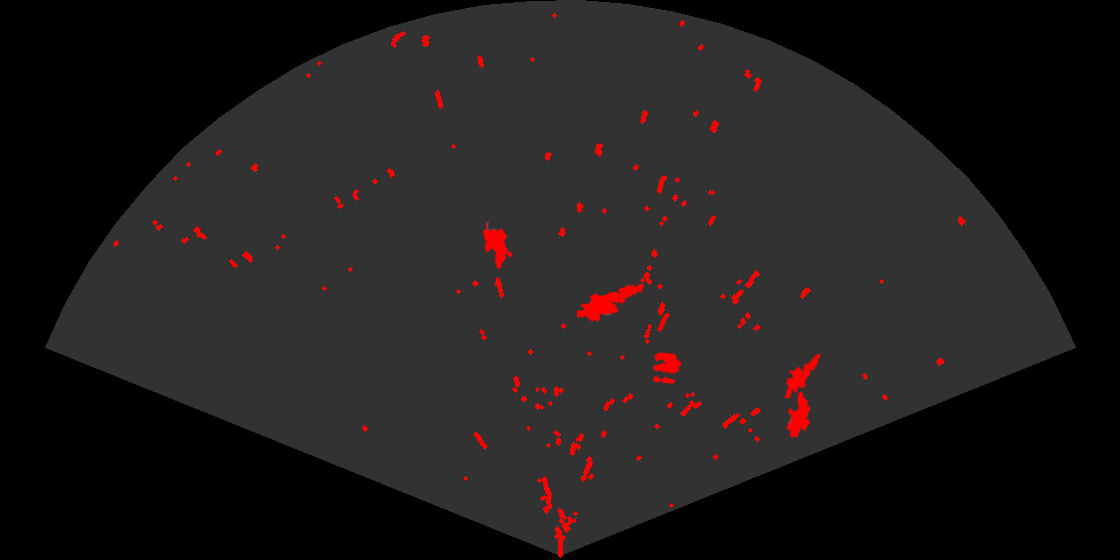AUV: (481, 220, 509, 271), (785, 390, 812, 439)
ball: (651, 351, 683, 385)
frogman: (577, 282, 646, 323), (783, 344, 824, 398)
